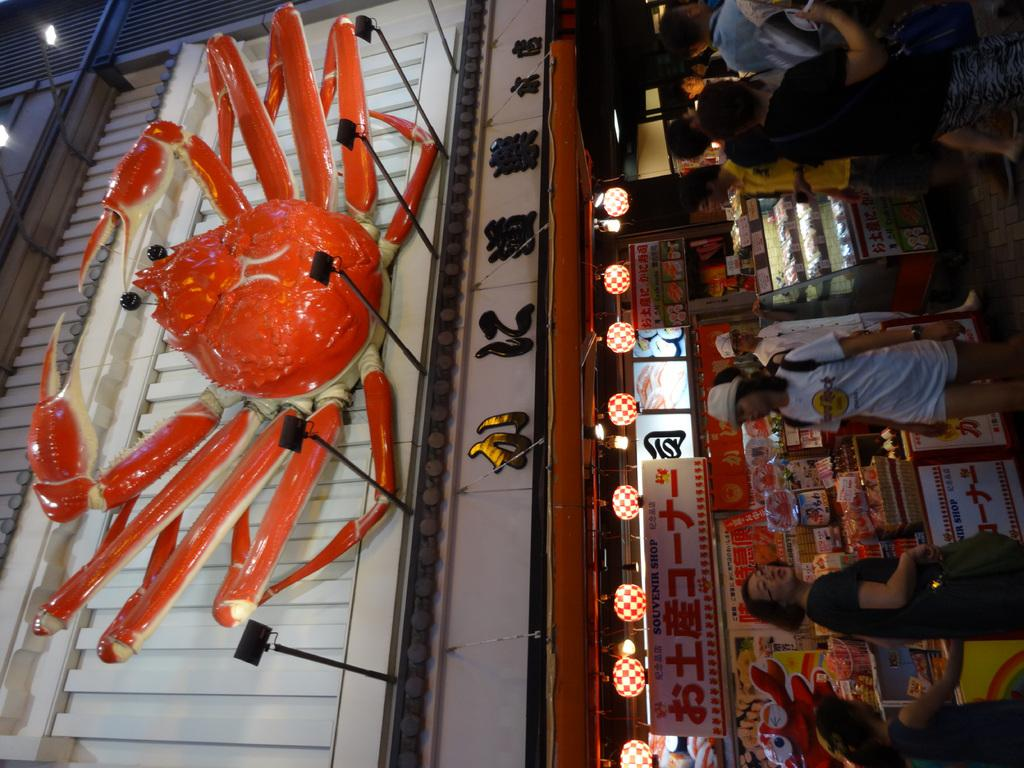Crab: (12, 0, 458, 669)
